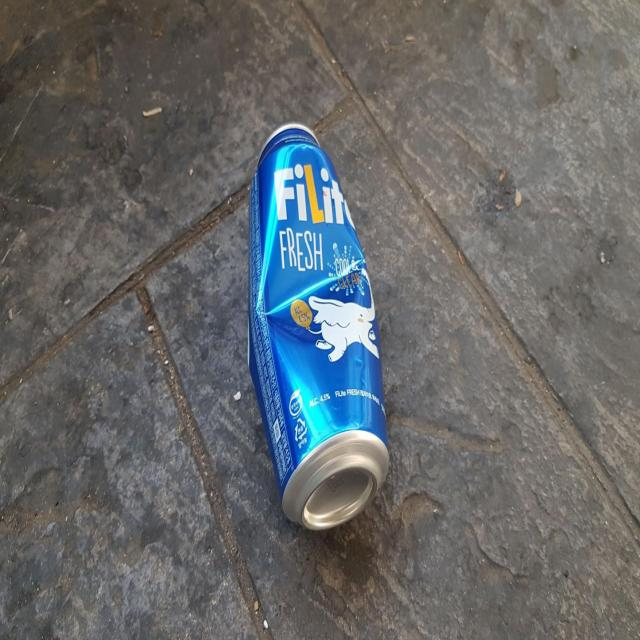can: (249, 122, 389, 530)
